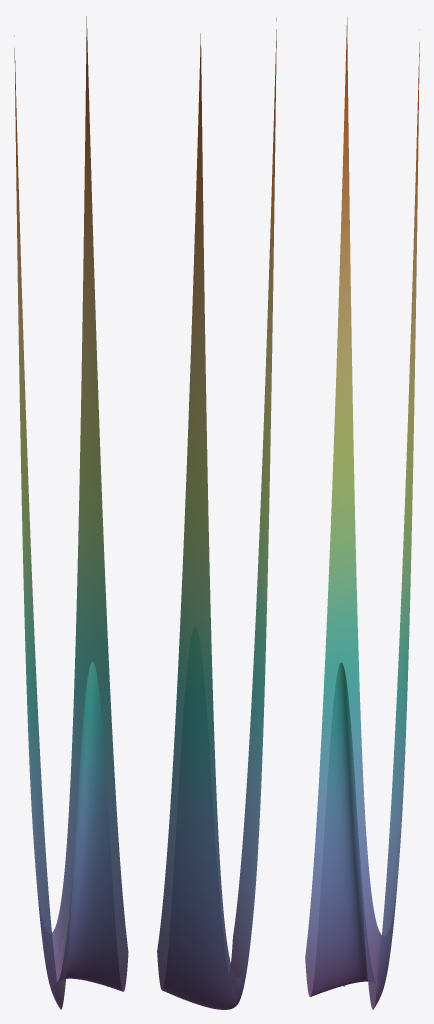
The model's file is hw1_newton_x0_0p5_1p8.glb.
3 renders of one model, left to right at view 1: azimuth 30°, elevation 25°; view 2: azimuth 210°, elevation 25°; view 3: azimuth 330°, elevation 25°, orthographic. The views are drawn at different scales.
Size of the model in its own units: 4 by 50.24 by 4.
